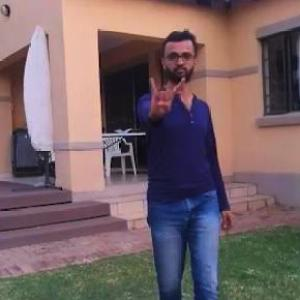takeoff-hand: (142, 69, 189, 123)
